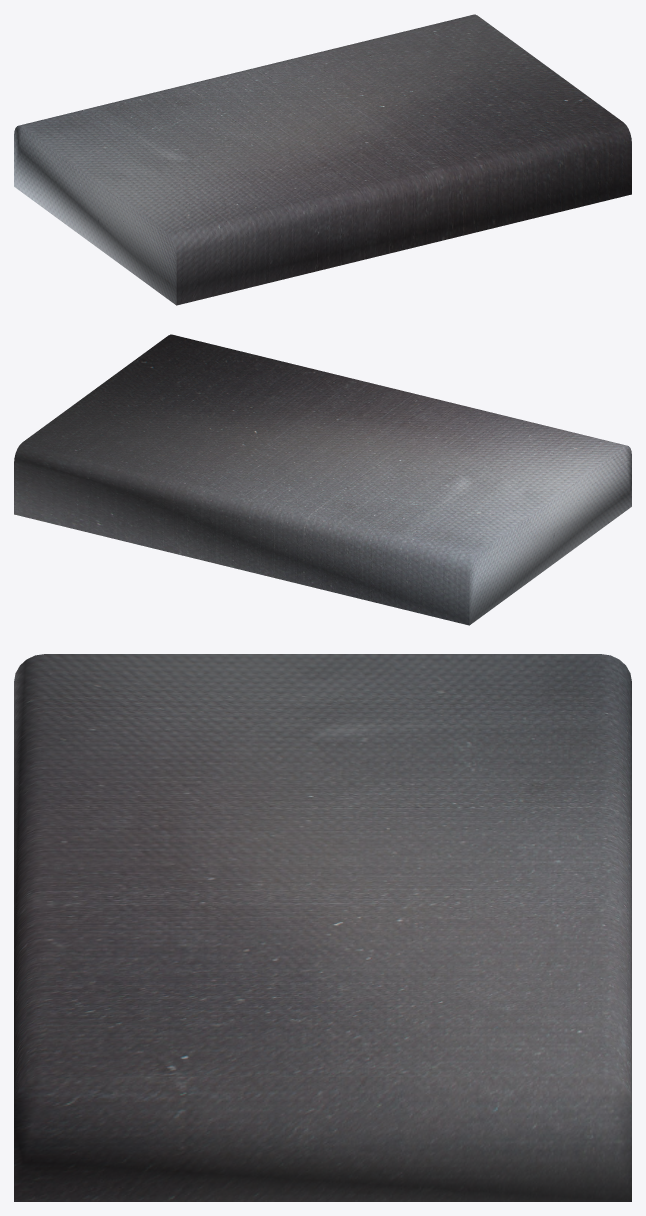
Rendered from bed2.dae.
3 views of the same model, one above another, from view 1: azimuth 30°, elevation 25°; view 2: azimuth 150°, elevation 25°; view 3: azimuth 270°, elevation 25° (orthographic). The views are drawn at different scales.
Visible parts, largest first — view 1: Cube; view 2: Cube; view 3: Cube.
Boxes of the visible parts, box(x1,y1,x2,y2) form: Cube: box(14, 14, 631, 305); Cube: box(14, 334, 631, 625); Cube: box(14, 654, 631, 1201).
Bounding box in the file's own units: 3.24 × 2 × 0.4477.
Materials: 1 (1 with a texture image).
